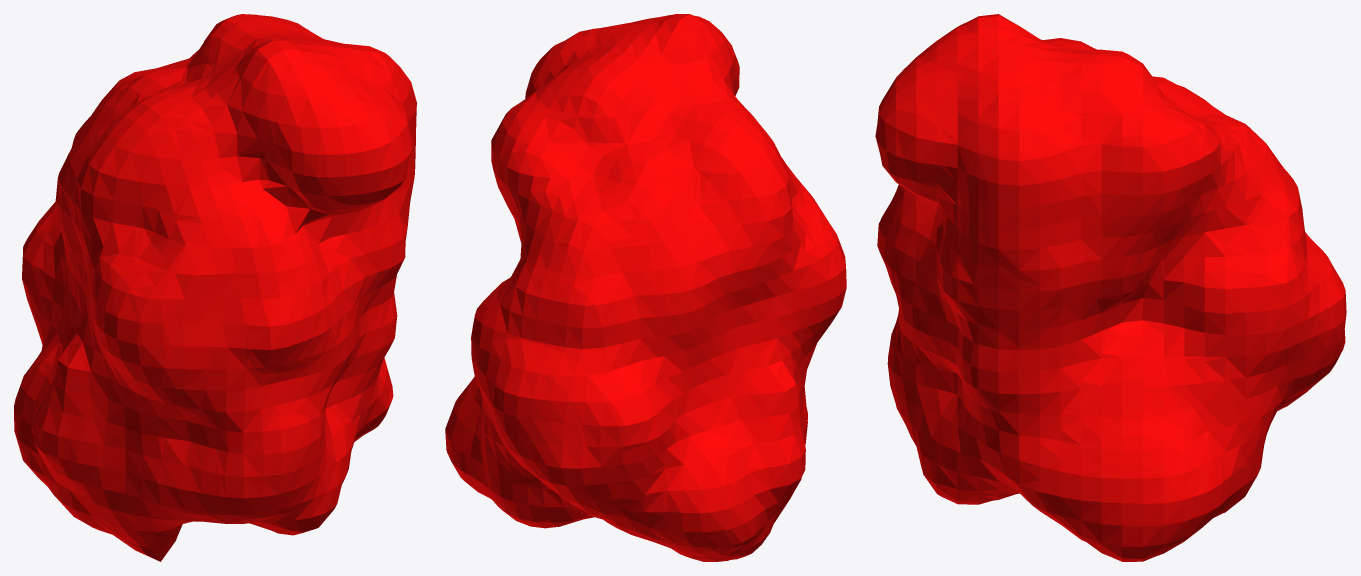
File: talA_coarse.dae
The picture shows the model from 3 angles, left to right: view 1: azimuth 30°, elevation 25°; view 2: azimuth 150°, elevation 25°; view 3: azimuth 270°, elevation 25°; orthographic projection. The views are drawn at different scales.
Visible parts, largest first — view 1: talA; view 2: talA; view 3: talA.
Part boxes in pixels (x1,y1,x2,y2): talA: (14, 14, 416, 561); talA: (445, 14, 846, 561); talA: (875, 14, 1346, 561).
Bounding box in the file's own units: 44.35 × 63.03 × 52.11.
